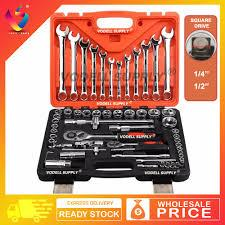wrench: (62, 128, 158, 140)
